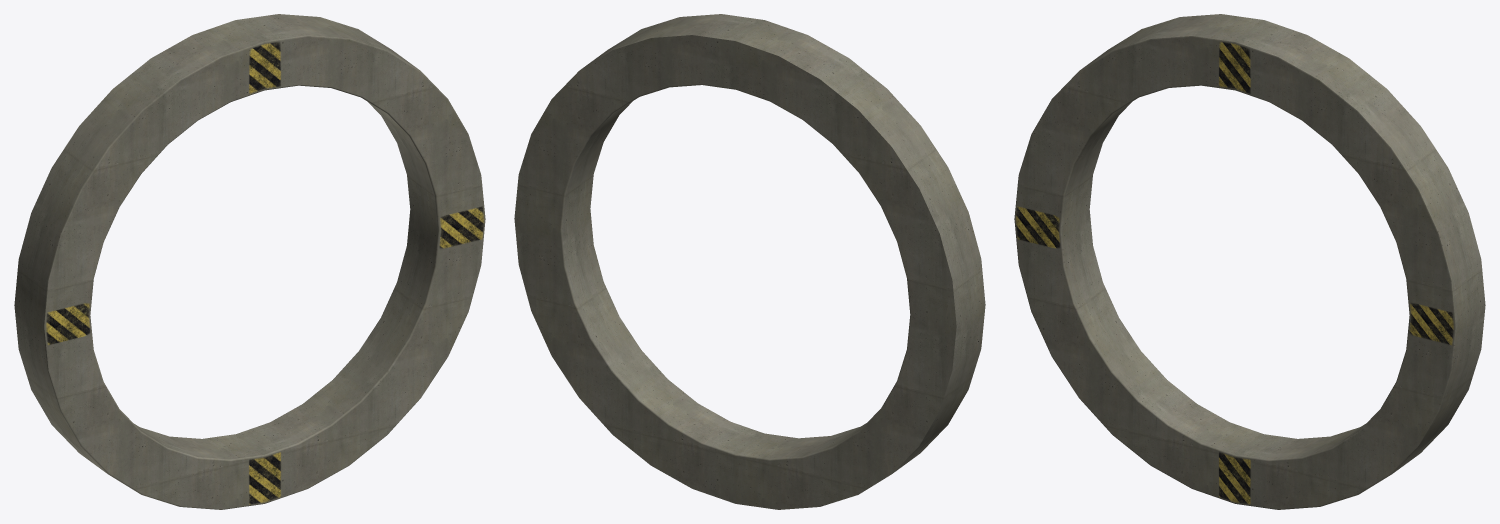
Rendered from Round_Cover.fbx.
The picture shows the model from 3 angles, left to right: view 1: azimuth 30°, elevation 25°; view 2: azimuth 150°, elevation 25°; view 3: azimuth 330°, elevation 25°; orthographic projection.
Parts seen in each view (by area): view 1: RoundCover; view 2: RoundCover; view 3: RoundCover.
Boxes of the visible parts, bbox=[...] form: RoundCover: bbox=[14, 14, 485, 509]; RoundCover: bbox=[514, 14, 985, 509]; RoundCover: bbox=[1014, 14, 1485, 509].
Size of the model in its own units: 1202 by 1202 by 139.
